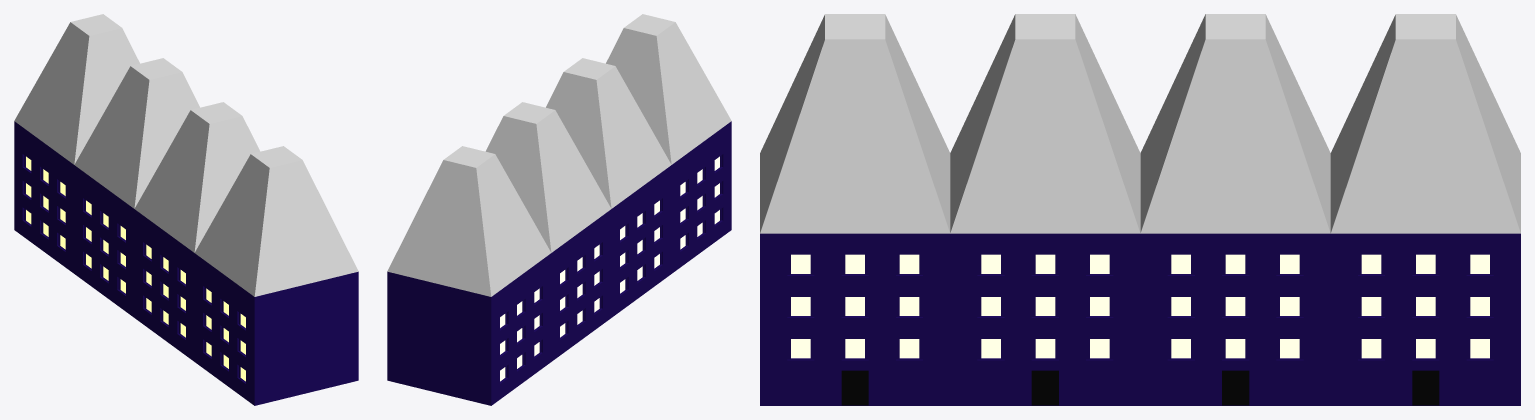
Rendered from 3_storey_house_4(4).fbx.
The picture shows the model from 3 angles, left to right: view 1: azimuth 30°, elevation 25°; view 2: azimuth 150°, elevation 25°; view 3: azimuth 270°, elevation 25°; orthographic projection. The views are drawn at different scales.
Parts seen in each view (by area): view 1: Cube; view 2: Cube; view 3: Cube.
Boxes of the visible parts, box(x1,y1,x2,y2) form: Cube: box(14, 14, 358, 405); Cube: box(387, 14, 731, 405); Cube: box(760, 14, 1520, 405).
Size of the model in its own units: 28 by 55.07 by 112.
